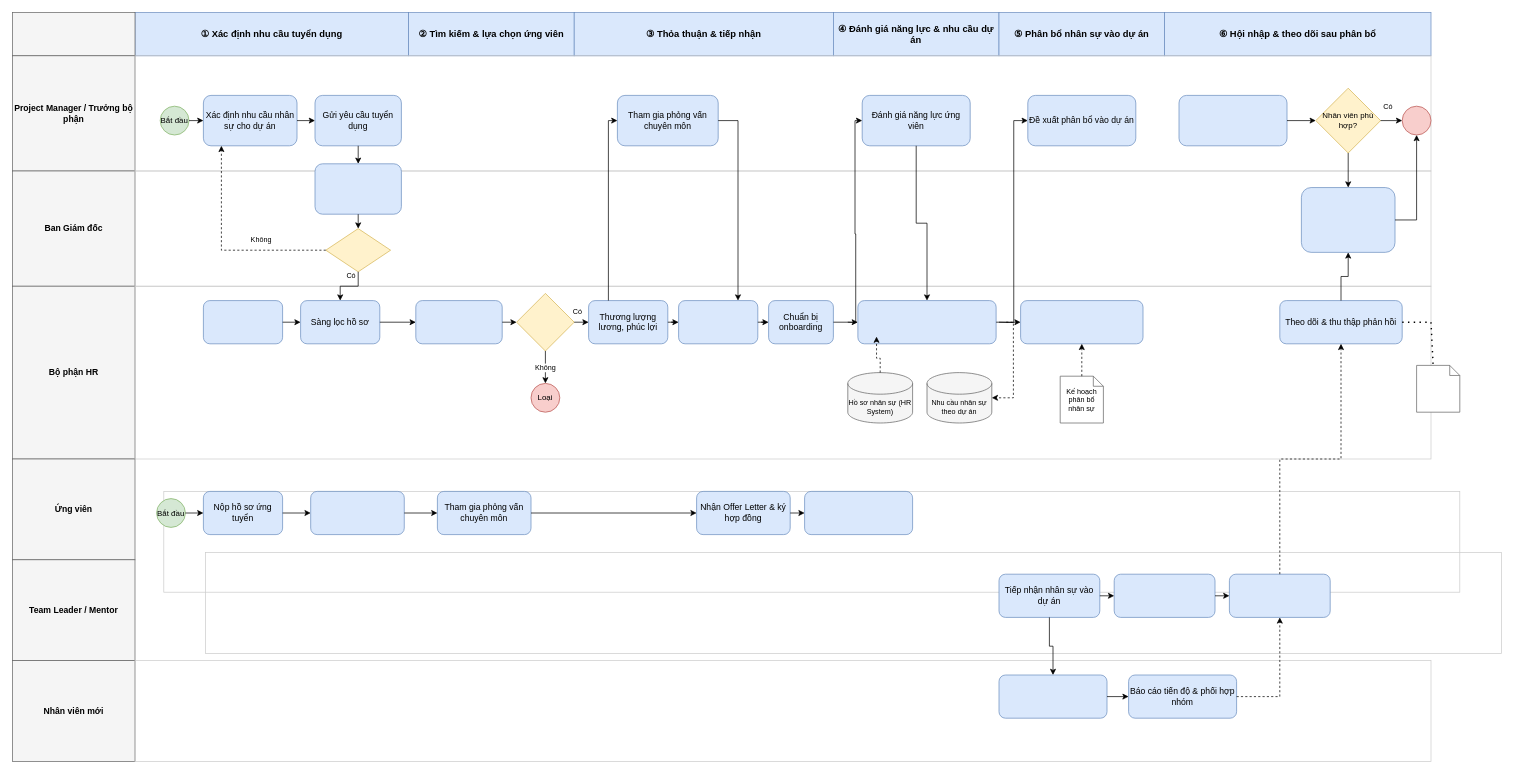
This 1514x774 diagram has some shape labels left out. Here are the shapes that lost their labels. From the top down, the box of each, then its label:
(1178, 95, 1287, 146): Đánh giá hiệu quả làm việc
(1401, 105, 1431, 135): Kết thúc
(314, 163, 401, 214): Phê duyệt nhu cầu và ngân sách
(1301, 187, 1395, 252): Đào tạo bổ sung / Điều chuyển dự án / Thay đổi vị trí
(325, 228, 391, 272): Phê duyệt?
(203, 300, 283, 344): Đăng tin tuyển dụng
(415, 300, 502, 344): Phỏng vấn HR & kiểm tra
(516, 293, 574, 351): Ứng viên đạt?
(678, 300, 758, 344): Gửi Offer Letter & ký hợp đồng
(857, 300, 996, 344): Phối hợp đánh giá năng lực thực tế
(1020, 300, 1143, 344): Phân bổ nhân sự vào dự án
(1416, 365, 1460, 412): Báo cáo đánh giá nhân sự
(310, 491, 404, 535): Tham gia phỏng vấn HR & kiểm tra
(804, 491, 913, 535): Tham gia chương trình onboarding
(1113, 573, 1215, 617): Hướng dẫn & đào tạo ban đầu
(1229, 573, 1330, 617): Đánh giá & góp ý định kỳ
(998, 674, 1107, 718): Tham gia dự án thực hiện công việc
